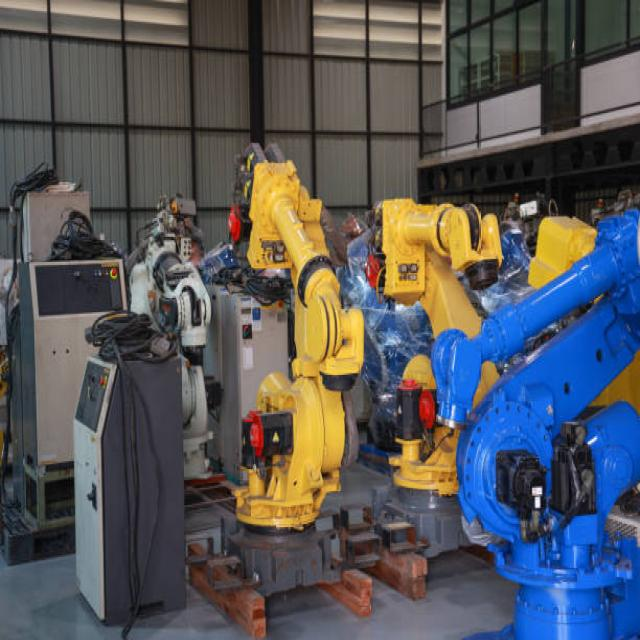Robotic-arm: (441, 193, 640, 637), (220, 136, 366, 558), (376, 176, 496, 516)
